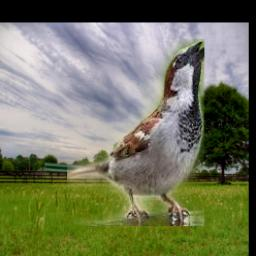Sparrow: (68, 39, 205, 226)
